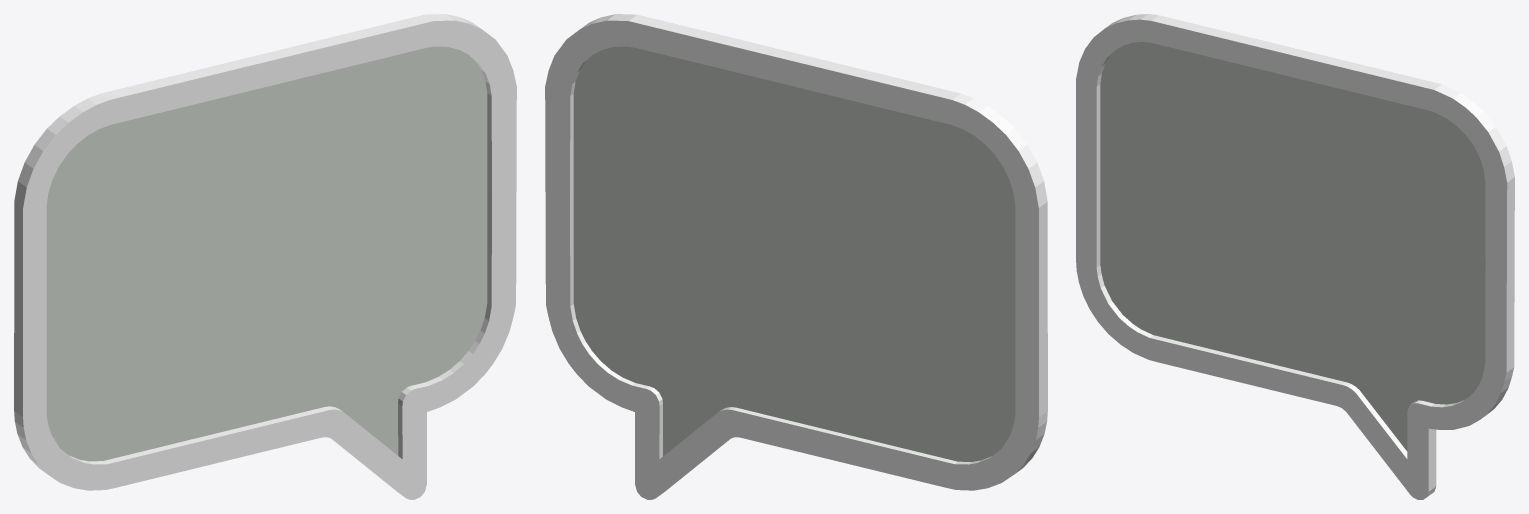
File: Message_Bubble.glb
3 renders of one model, left to right at view 1: azimuth 30°, elevation 25°; view 2: azimuth 150°, elevation 25°; view 3: azimuth 330°, elevation 25°, orthographic. The views are drawn at different scales.
Visible parts, largest first — view 1: MessageBubble; view 2: MessageBubble; view 3: MessageBubble.
Part boxes in pixels (x1,y1,x2,y2): MessageBubble: (14, 14, 516, 499); MessageBubble: (545, 14, 1047, 499); MessageBubble: (1076, 14, 1514, 499).
Bounding box in the file's own units: 1.67 × 1.53 × 0.052.
Materials: 2 (1 with a texture image).
